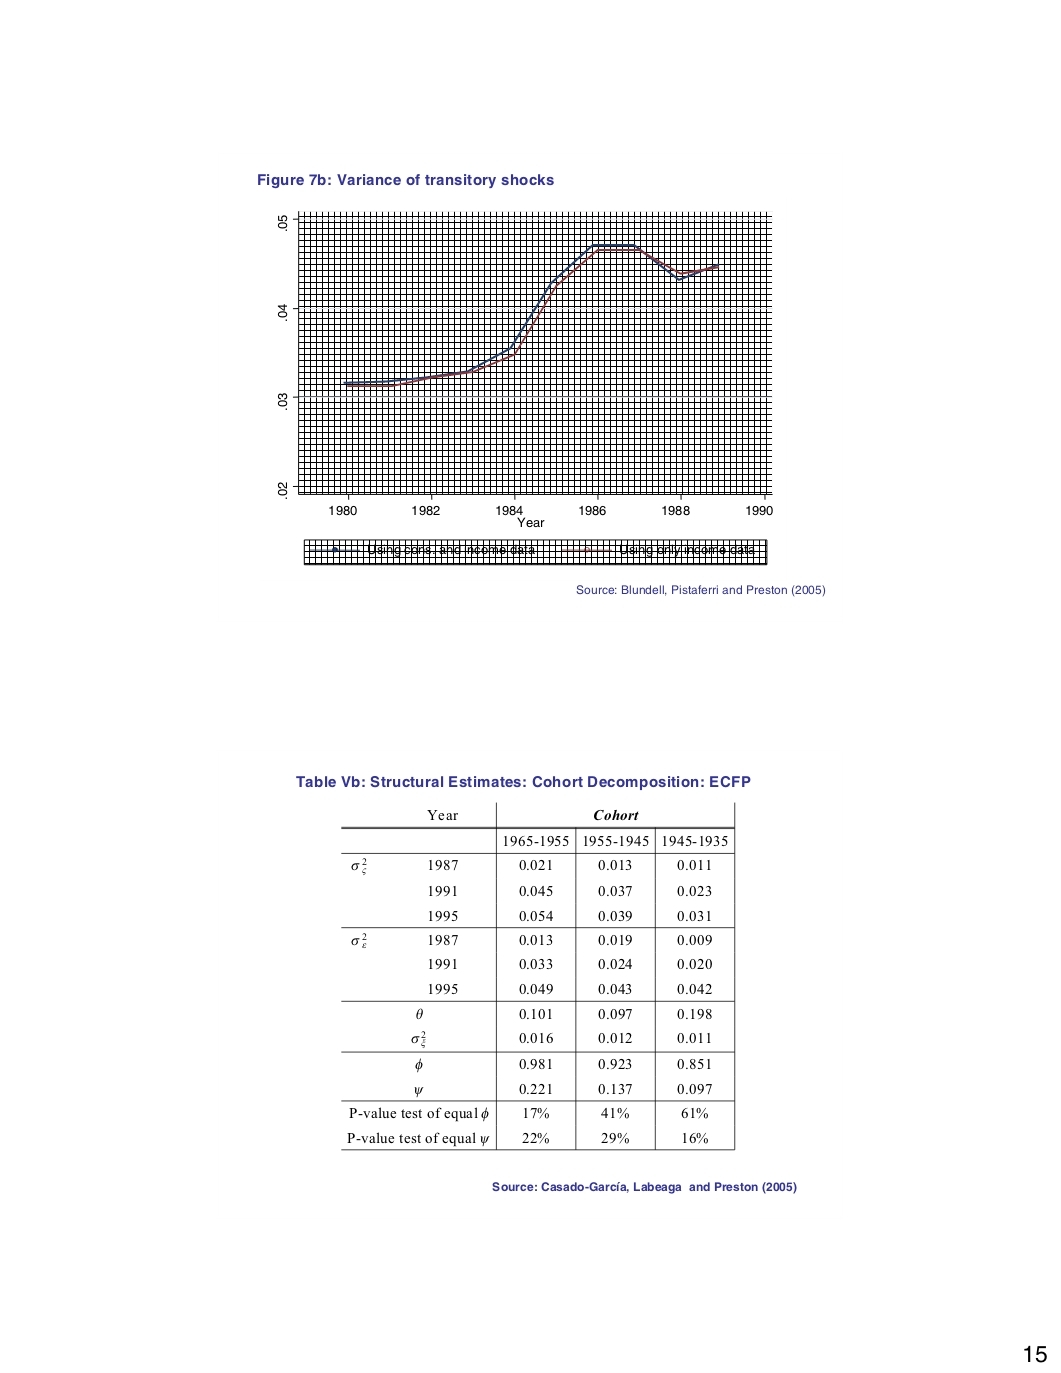Table: (341, 801, 734, 1151)
figure: (278, 211, 772, 527), (303, 538, 767, 566)
